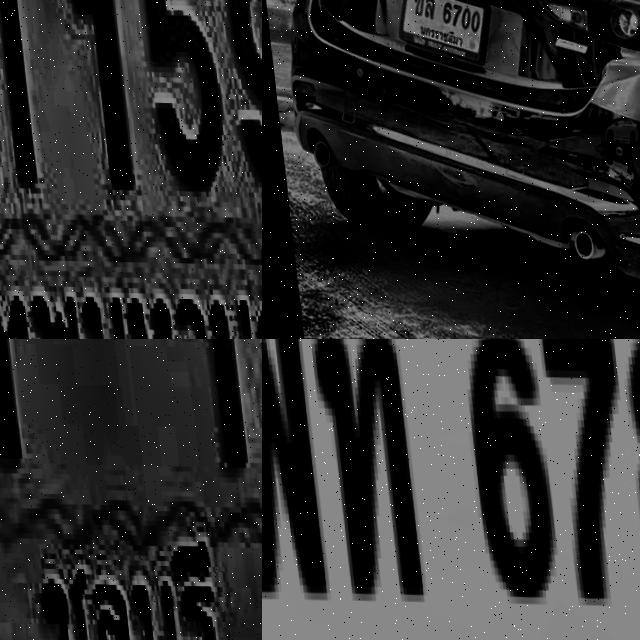license-plate: (262, 339, 640, 640), (0, 0, 262, 339), (0, 339, 262, 640), (386, 0, 489, 71)
